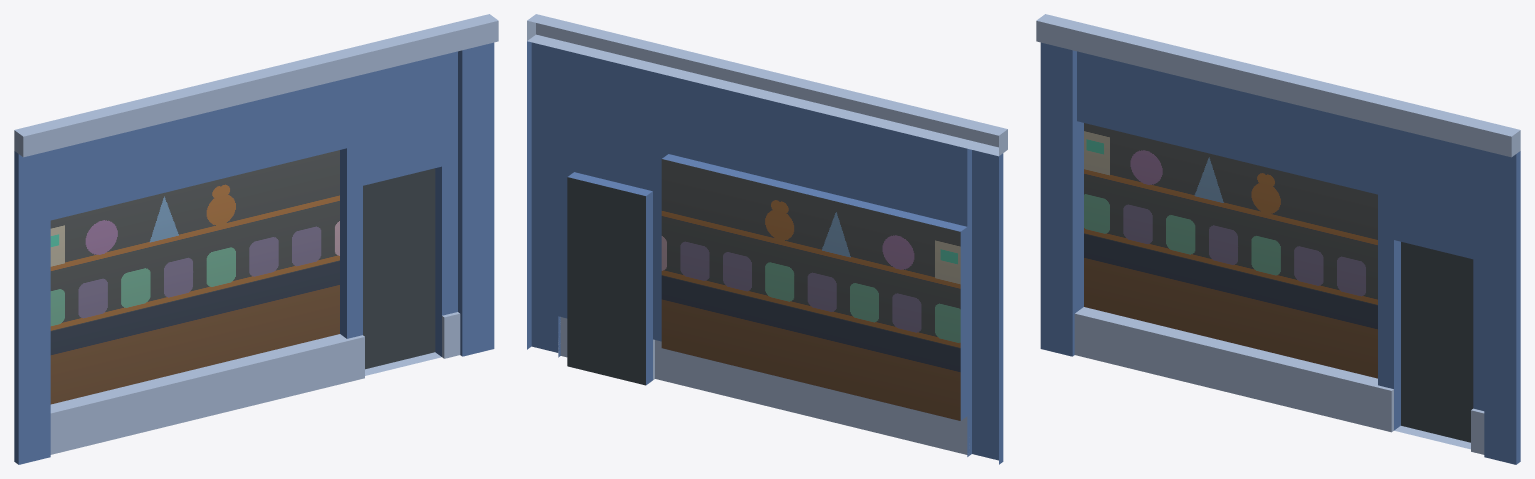
The model's file is SM_ShopFront_6m_Oyuncak.obj.
3 renders of one model, left to right at view 1: azimuth 30°, elevation 25°; view 2: azimuth 150°, elevation 25°; view 3: azimuth 330°, elevation 25°, orthographic.
Parts seen in each view (by area): view 1: ShopFront; view 2: ShopFront; view 3: ShopFront.
Boxes of the visible parts, <box> form: ShopFront: <box>14,14,498,464</box>; ShopFront: <box>527,14,1007,464</box>; ShopFront: <box>1036,14,1520,464</box>.
Bounding box in the file's own units: 6 × 4 × 0.35.
